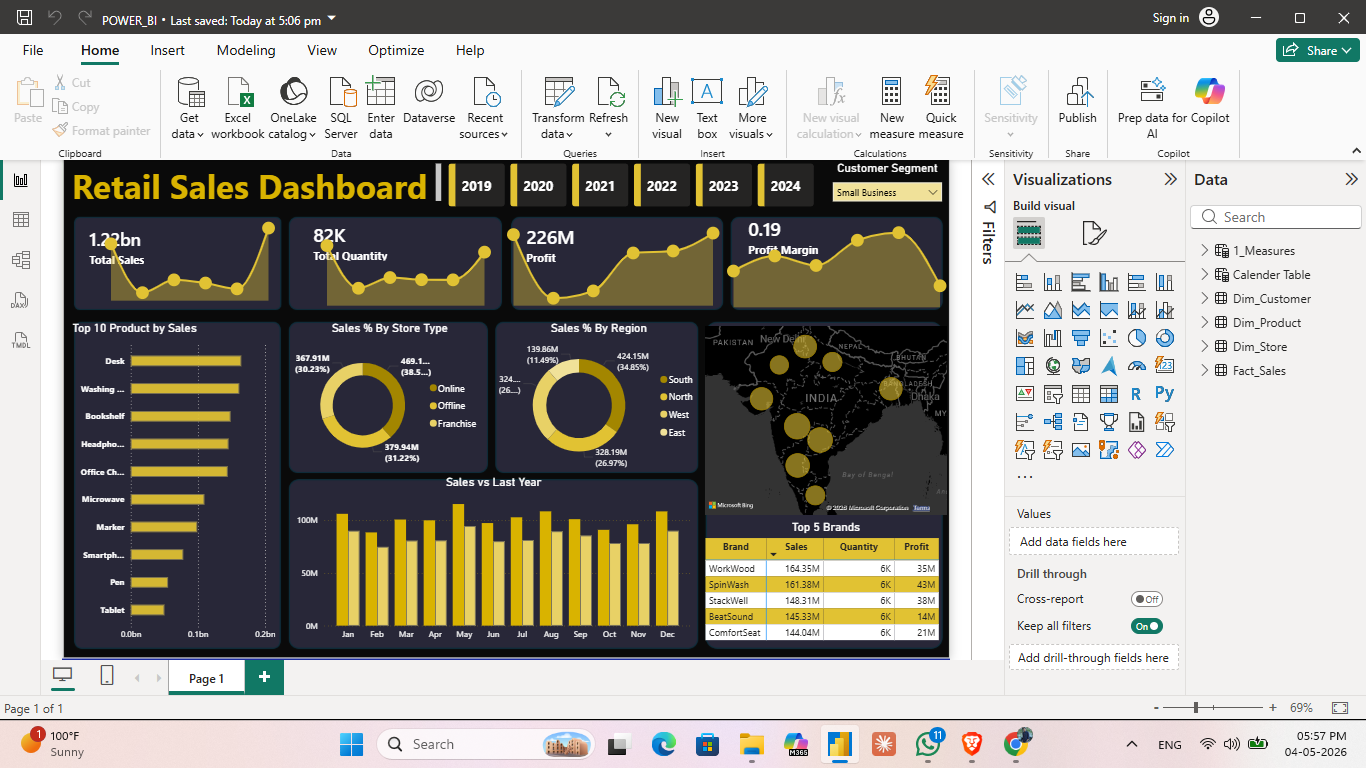

Layout of this report page (visuals, bound fields, positions):
{"tool":"powerbi","page":{"name":"Page 1","canvas":[1280,720],"ordinal":0},"visuals":[{"type":"textbox","box":[10.1,0,541.4,69.1],"z":0},{"type":"cardVisual","fields":{"Data":["1_Measures.Total Sales"]},"box":[10.1,82.3,151.2,85.7],"z":1000},{"type":"cardVisual","fields":{"Data":["1_Measures.Total Quantity"]},"box":[332.6,75.6,173,87.3],"z":2000},{"type":"cardVisual","fields":{"Data":["1_Measures.Profit"]},"box":[640,63.8,132.7,109.2],"z":3000},{"type":"cardVisual","fields":{"Data":["1_Measures.Profit Margin"]},"box":[959.2,47,168,126],"z":4000},{"type":"areaChart","fields":{"Y":["1_Measures.Total Sales"],"Category":["Calender Table.Year"]},"box":[10.1,75.6,302.4,132.7],"z":5000},{"type":"areaChart","fields":{"Y":["1_Measures.Total Quantity"],"Category":["Calender Table.Year"]},"box":[320.8,82.3,302.4,132.7],"z":6000},{"type":"areaChart","fields":{"Category":["Calender Table.Year"],"Y":["1_Measures.Profit"]},"box":[635,82.3,317.5,132.7],"z":7000},{"type":"areaChart","fields":{"Category":["Calender Table.Year"],"Y":["1_Measures.Profit Margin"]},"box":[952.4,67.2,327.6,149.5],"z":8000},{"type":"barChart","title":"Top 10 Product by Sales","fields":{"Category":["Dim_Product.ProductName"],"Y":["1_Measures.Total Sales"]},"box":[10.1,231.8,302.4,469.4],"z":9000},{"type":"donutChart","title":"Sales % By Store Type","fields":{"Category":["Dim_Store.StoreType"],"Y":["1_Measures.Total Sales"]},"box":[332.6,231.8,278.8,221.7],"z":10000},{"type":"donutChart","title":"Sales % By Region","fields":{"Category":["Dim_Customer.Region"],"Y":["1_Measures.Total Sales"]},"box":[623.2,231.8,299,221.7],"z":11000},{"type":"map","fields":{"Category":["Dim_Customer.State"],"Size":["1_Measures.Total Sales"]},"box":[922.2,235.2,357.8,282.2],"z":12000},{"type":"pivotTable","title":"Top 5 Brands","fields":{"Rows":["Dim_Product.Brand"],"Values":["1_Measures.Total Sales","1_Measures.Total Quantity","1_Measures.Profit"]},"box":[921.4,517.9,357.1,182.1],"z":13000},{"type":"advancedSlicerVisual","fields":{"Values":["Calender Table.Year"]},"box":[552.2,0,537.7,72.5],"z":14000},{"type":"slicer","title":"Customer Segment","fields":{"Values":["Dim_Customer.Segment"]},"box":[1100.2,1.4,177.1,70.6],"z":15000},{"type":"clusteredColumnChart","title":"Sales vs Last Year","fields":{"Y":["1_Measures.Total Sales","1_Measures.Sales LY"],"Category":["Calender Table.Month Name"]},"box":[332.6,453.5,577.8,246.9],"z":15001}]}

Visuals, with their boxes on the page's 1280x720 design canvas (x1, y1, x2, y2). These are canvas units, not pixel positions in the 1366x768 screenshot, which may show the page scaled, cropped or inside an application window:
textbox: left=10, top=0, right=552, bottom=69
cardVisual - 1_Measures.Total Sales: left=10, top=82, right=161, bottom=168
cardVisual - 1_Measures.Total Quantity: left=333, top=76, right=506, bottom=163
cardVisual - 1_Measures.Profit: left=640, top=64, right=773, bottom=173
cardVisual - 1_Measures.Profit Margin: left=959, top=47, right=1127, bottom=173
areaChart - 1_Measures.Total Sales x Calender Table.Year: left=10, top=76, right=312, bottom=208
areaChart - 1_Measures.Total Quantity x Calender Table.Year: left=321, top=82, right=623, bottom=215
areaChart - Calender Table.Year x 1_Measures.Profit: left=635, top=82, right=952, bottom=215
areaChart - Calender Table.Year x 1_Measures.Profit Margin: left=952, top=67, right=1280, bottom=217
"Top 10 Product by Sales" barChart: left=10, top=232, right=312, bottom=701
"Sales % By Store Type" donutChart: left=333, top=232, right=611, bottom=454
"Sales % By Region" donutChart: left=623, top=232, right=922, bottom=454
map - Dim_Customer.State x 1_Measures.Total Sales: left=922, top=235, right=1280, bottom=517
"Top 5 Brands" pivotTable: left=921, top=518, right=1278, bottom=700
advancedSlicerVisual - Calender Table.Year: left=552, top=0, right=1090, bottom=72
"Customer Segment" slicer: left=1100, top=1, right=1277, bottom=72
"Sales vs Last Year" clusteredColumnChart: left=333, top=454, right=910, bottom=700
